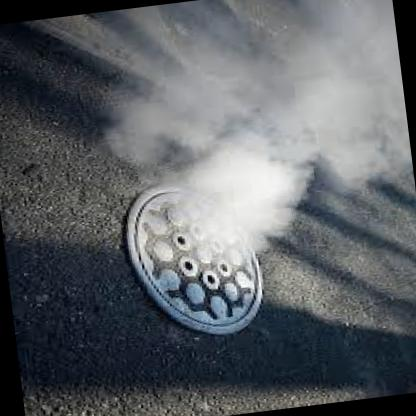manholes: (102, 152, 308, 360)
